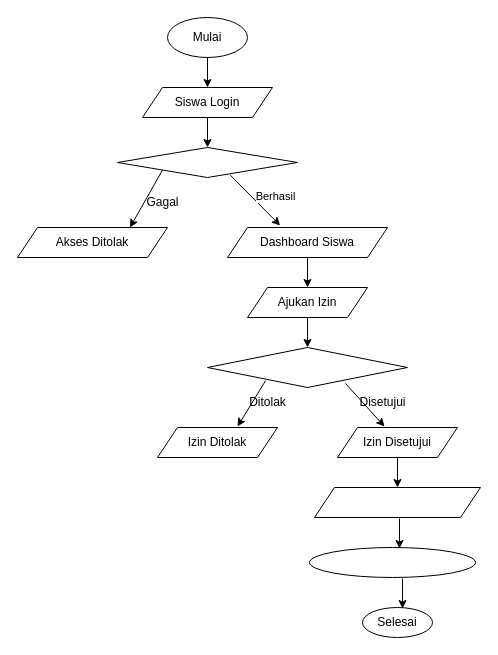
Image size: 498x655. Some labels were removed from this diagram. Here are the shapes that lost their labels. From the top down, the centre of each, then its label:
point (207, 162): Validasi Akun
point (307, 367): Verifikasi Guru/Admin
point (397, 502): Notifikasi ke Siswa
point (392, 562): Data Izin Disimpan
